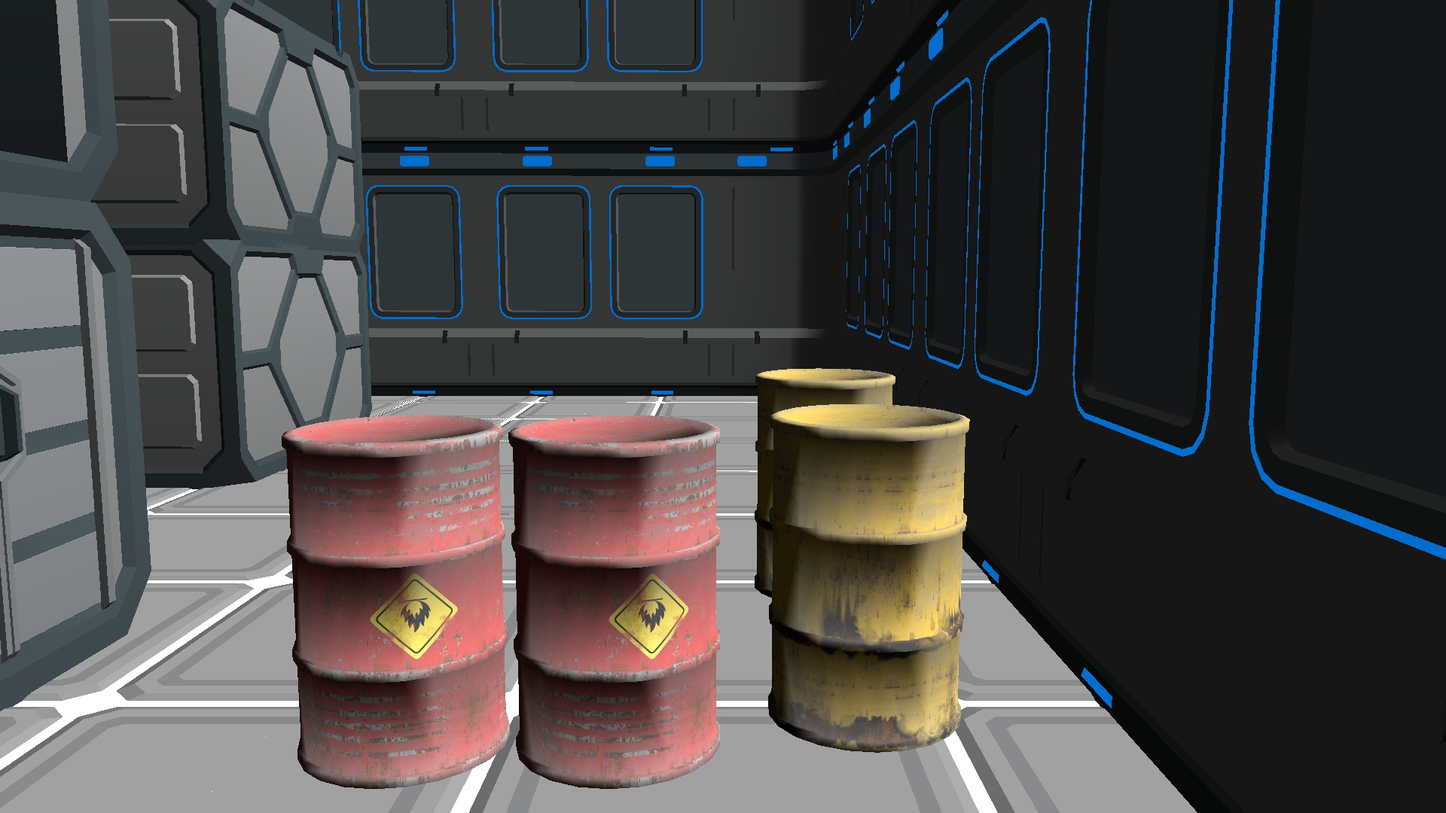toxic barrel: (280, 413, 510, 790), (509, 416, 722, 789), (768, 404, 971, 752), (754, 368, 895, 599)
